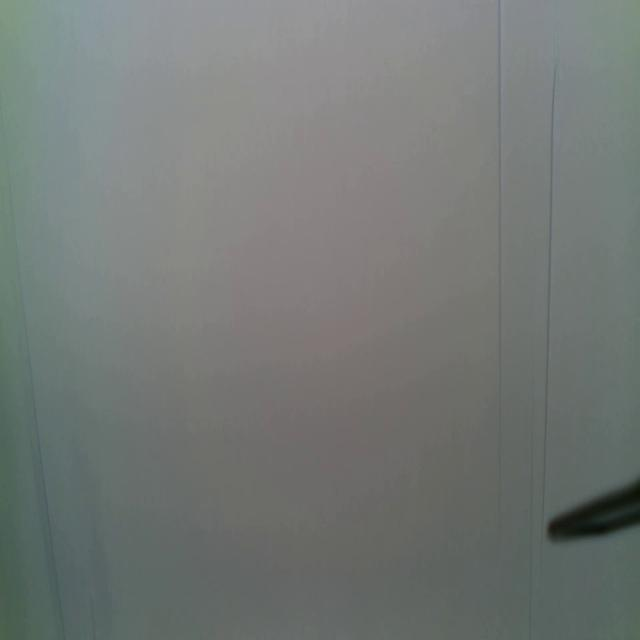crease: (0, 103, 69, 640), (539, 63, 558, 557), (495, 0, 504, 640), (527, 369, 534, 640)
